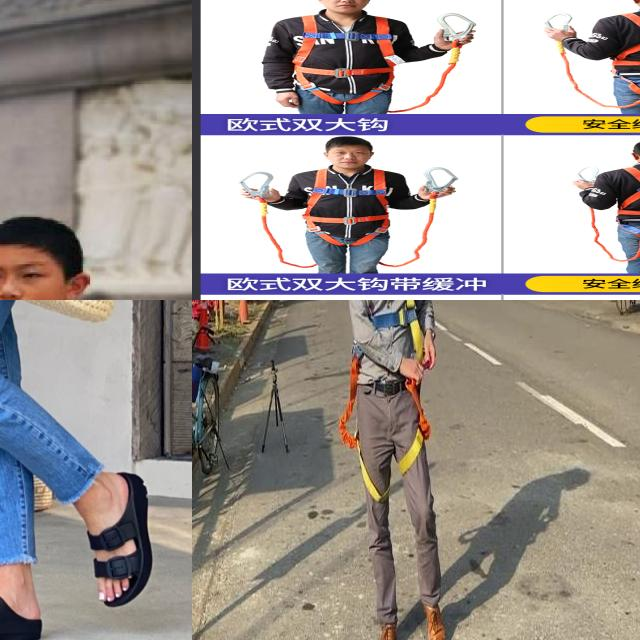Harness: (338, 351, 432, 502), (359, 0, 405, 141), (231, 0, 276, 139), (368, 300, 424, 362)
Sandals: (77, 466, 157, 614), (0, 563, 50, 640)
face_nomask: (0, 253, 58, 300)
head_nohelmet: (0, 212, 80, 264)
person: (0, 215, 150, 300)
